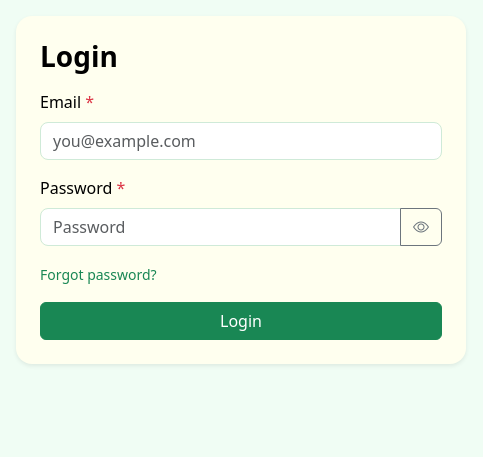
Test: LoginPage Component › shows error message on failed login
Type "test@example.com" into the field with placeholder "you@example.com" at coordinates (241, 141), box [40,122,442,160]
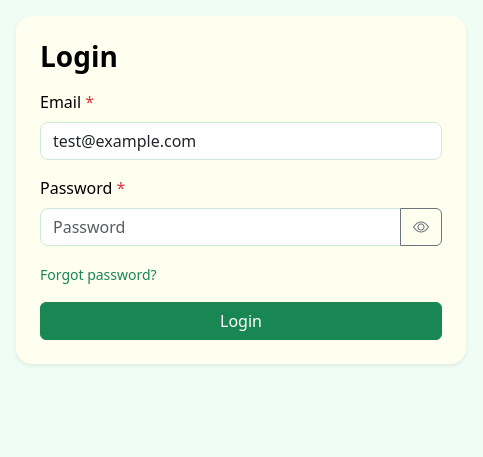
Type "wrongpassword" into the password field with placeholder "Password" at coordinates (220, 227), box [40,208,401,246]
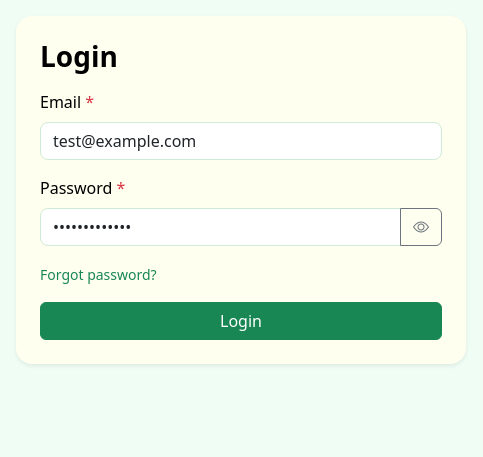
Click the button "Login" at coordinates (241, 321), box [40,302,442,340]
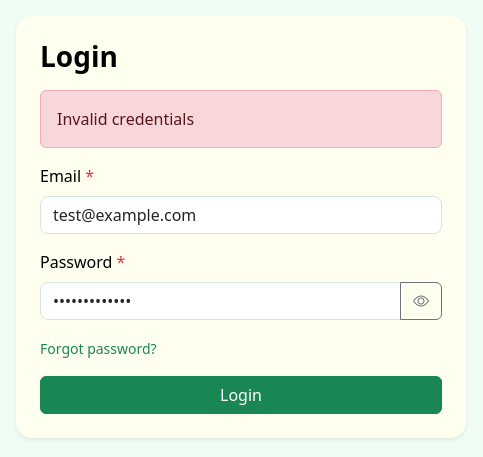
Now the text "Invalid credentials" is shown, box [40,90,442,148]
